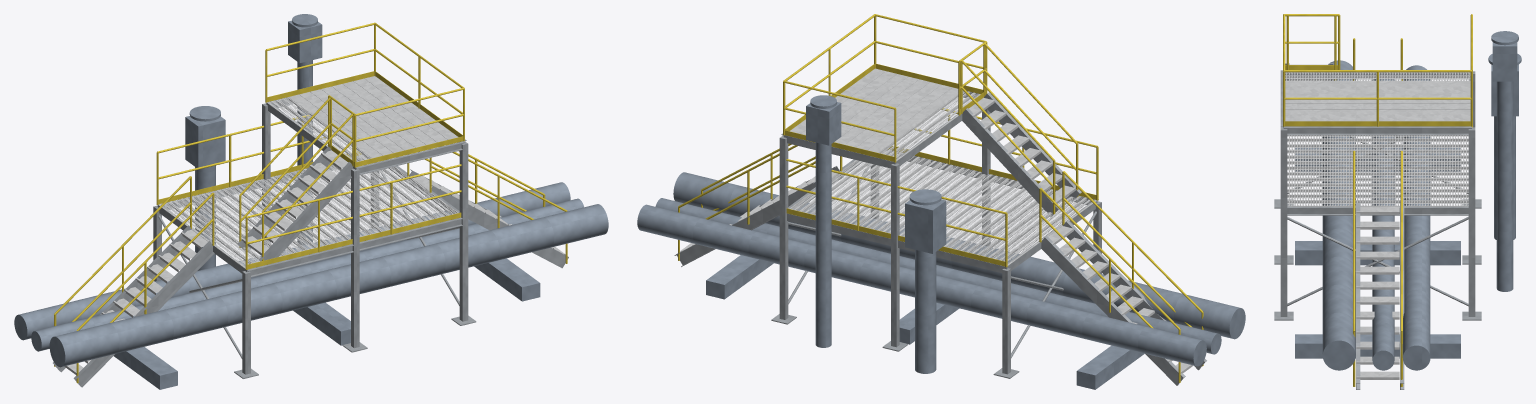
Rendered from multi-level-access-platforms.glb.
3 renders of one model, left to right at view 1: azimuth 30°, elevation 25°; view 2: azimuth 150°, elevation 25°; view 3: azimuth 270°, elevation 25°, orthographic. The views are drawn at different scales.
Parts seen in each view (by area): view 1: Pipework&Valves(context), Grip-StrutDecks, ModularFrames&Posts, Handrails&Stringers, StairTreads; view 2: Pipework&Valves(context), Grip-StrutDecks, ModularFrames&Posts, Handrails&Stringers, StairTreads; view 3: Pipework&Valves(context), Grip-StrutDecks, ModularFrames&Posts, Handrails&Stringers, StairTreads.
Part boxes in pixels (bbox=[...]): Pipework&Valves(context): bbox=[14, 14, 608, 389]; Grip-StrutDecks: bbox=[158, 76, 458, 268]; ModularFrames&Posts: bbox=[53, 97, 568, 387]; Handrails&Stringers: bbox=[54, 22, 567, 383]; StairTreads: bbox=[64, 150, 565, 375]; Pipework&Valves(context): bbox=[637, 95, 1245, 389]; Grip-StrutDecks: bbox=[789, 68, 1096, 265]; ModularFrames&Posts: bbox=[674, 91, 1206, 385]; Handrails&Stringers: bbox=[678, 14, 1203, 382]; StairTreads: bbox=[680, 97, 1193, 373]; Pipework&Valves(context): bbox=[1295, 31, 1521, 370]; Grip-StrutDecks: bbox=[1285, 72, 1470, 206]; ModularFrames&Posts: bbox=[1274, 63, 1481, 389]; Handrails&Stringers: bbox=[1283, 14, 1472, 386]; StairTreads: bbox=[1290, 64, 1399, 379].
Size of the model in its own units: 12 by 5.13 by 4.48.
4 materials, 4 textured.
